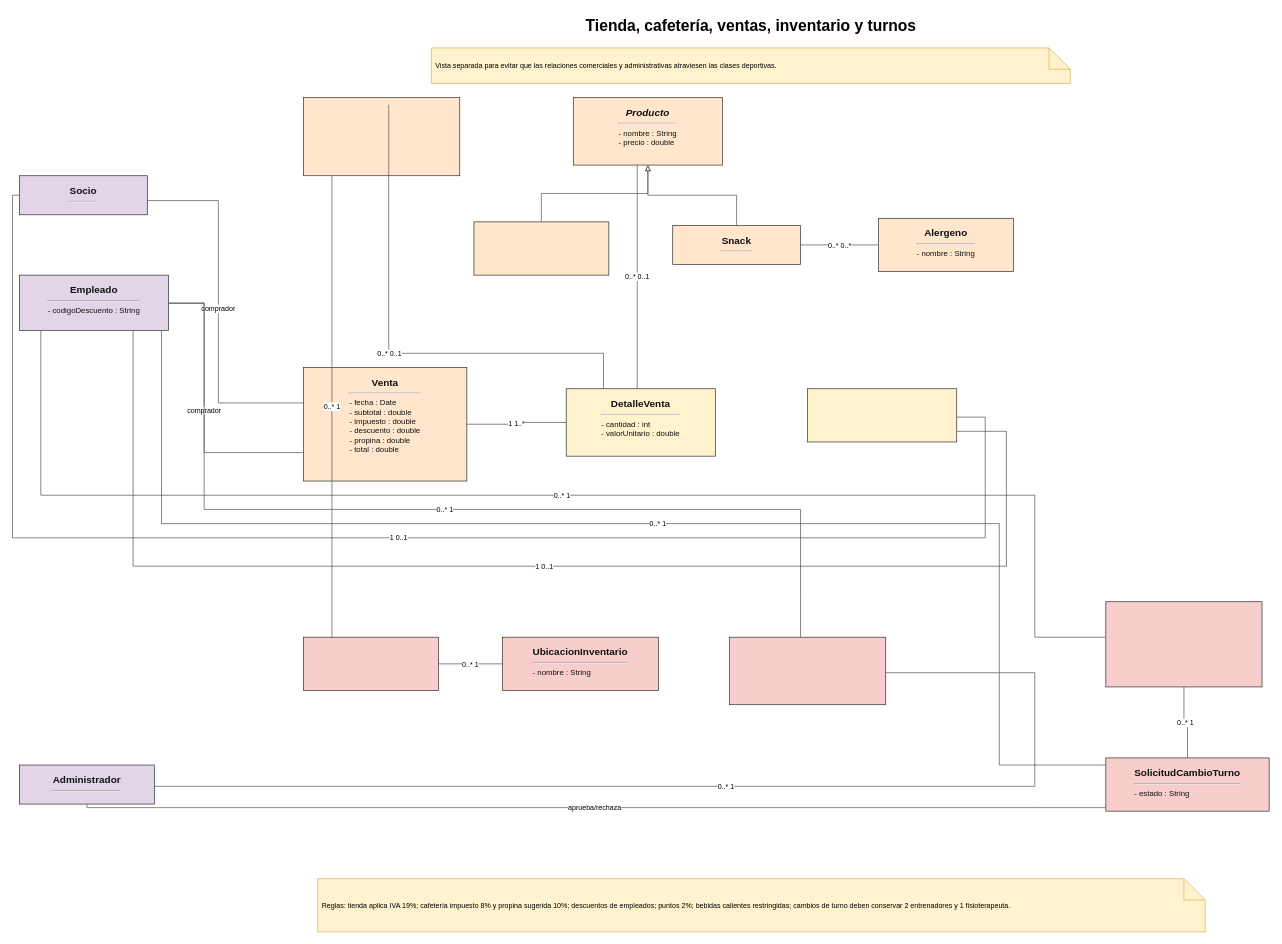
The diagram is 1282 pixels wide and 944 high, and some of its shapes have lost their labels. Each missing label, with the centre of its shape:
Articulo - nombre : String - categoria : String - precio : double: point (381, 136)
Bebida - temperatura : String: point (541, 248)
Inventario - cantidad : int: point (370, 663)
PuntosFidelidad - saldo : double: point (882, 415)
SugerenciaProducto - descripcion : String - estado : String: point (807, 671)
Turno - diaSemana : String - horaInicio : Time - horaFin : Time: point (1183, 644)
